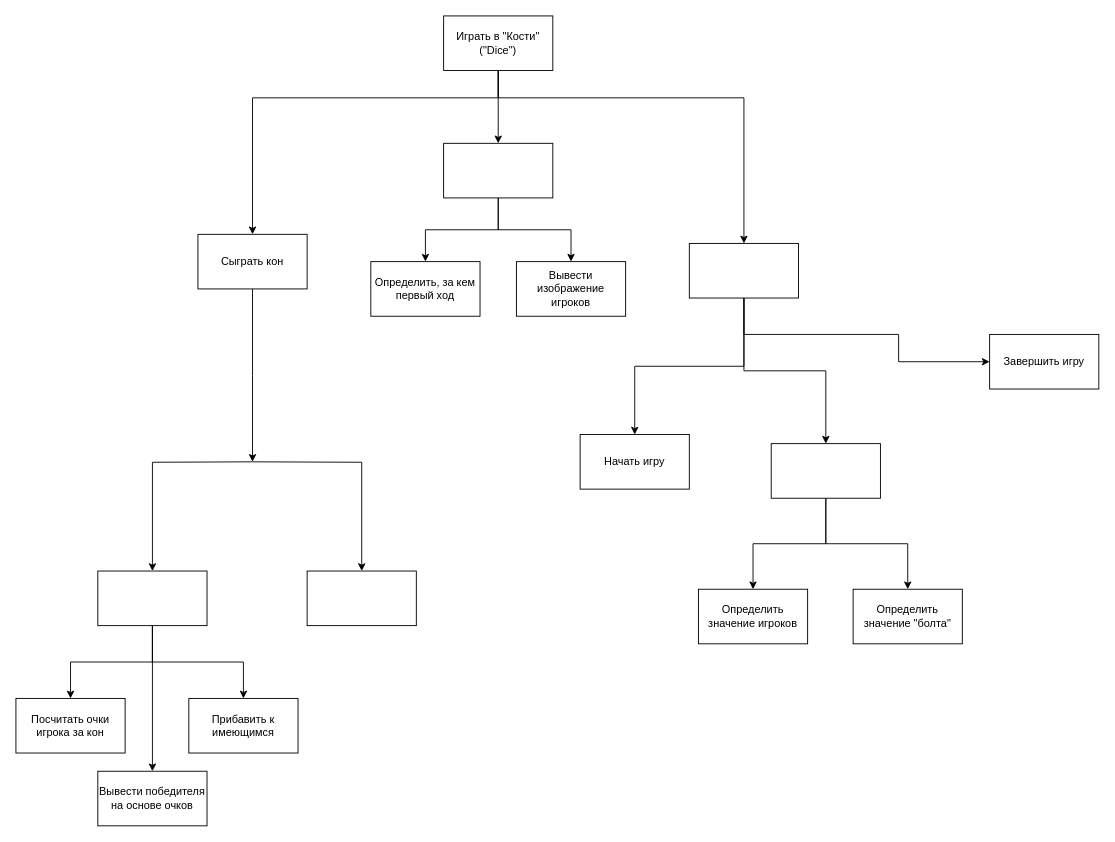
This 1115x842 diagram has some shape labels left out. Here are the shapes that lost their labels. From the top down, the centre of each, then its label:
pixel 498 170: Подготовиться к игре
pixel 743 270: Управлять игрой
pixel 825 470: Настроить игру
pixel 152 598: Работать с очками
pixel 361 598: Демонстрировать количество выпавших очков
